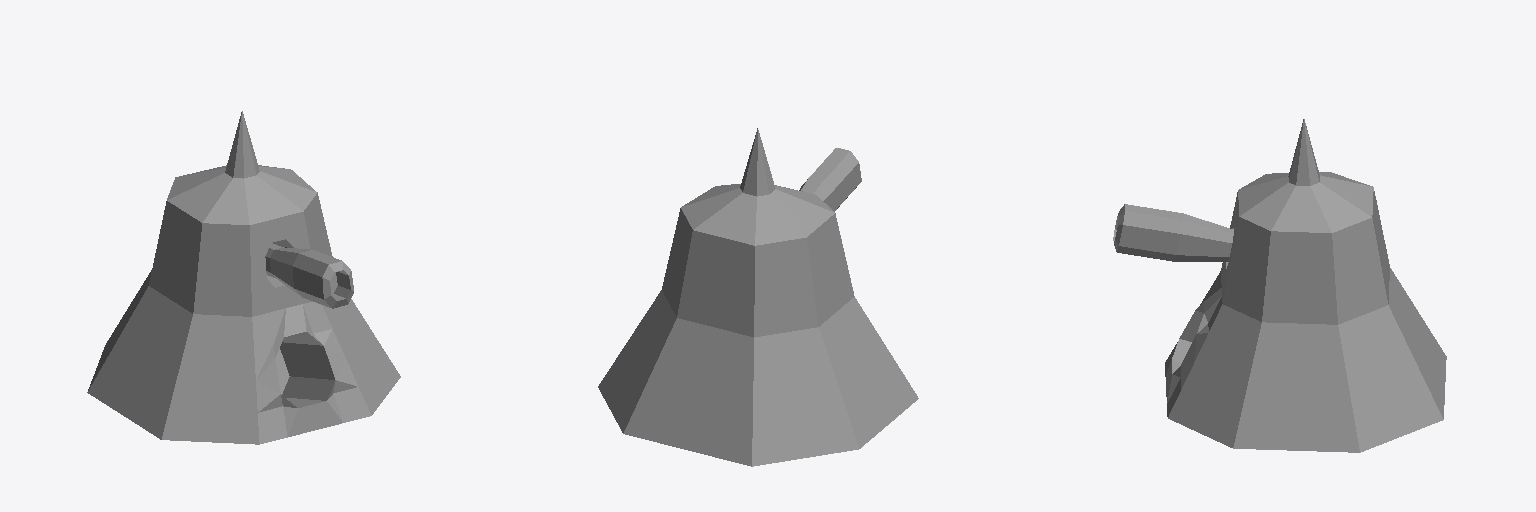
File: torre1c4.obj
3 renders of one model, left to right at view 1: azimuth 30°, elevation 25°; view 2: azimuth 150°, elevation 25°; view 3: azimuth 270°, elevation 25°, orthographic.
Parts seen in each view (by area): view 1: Cube; view 2: Cube; view 3: Cube.
Boxes of the visible parts, <box> form: Cube: <box>87,111,400,444</box>; Cube: <box>598,128,918,466</box>; Cube: <box>1113,119,1446,452</box>.
Size of the model in its own units: 2.04 by 2.06 by 2.26.